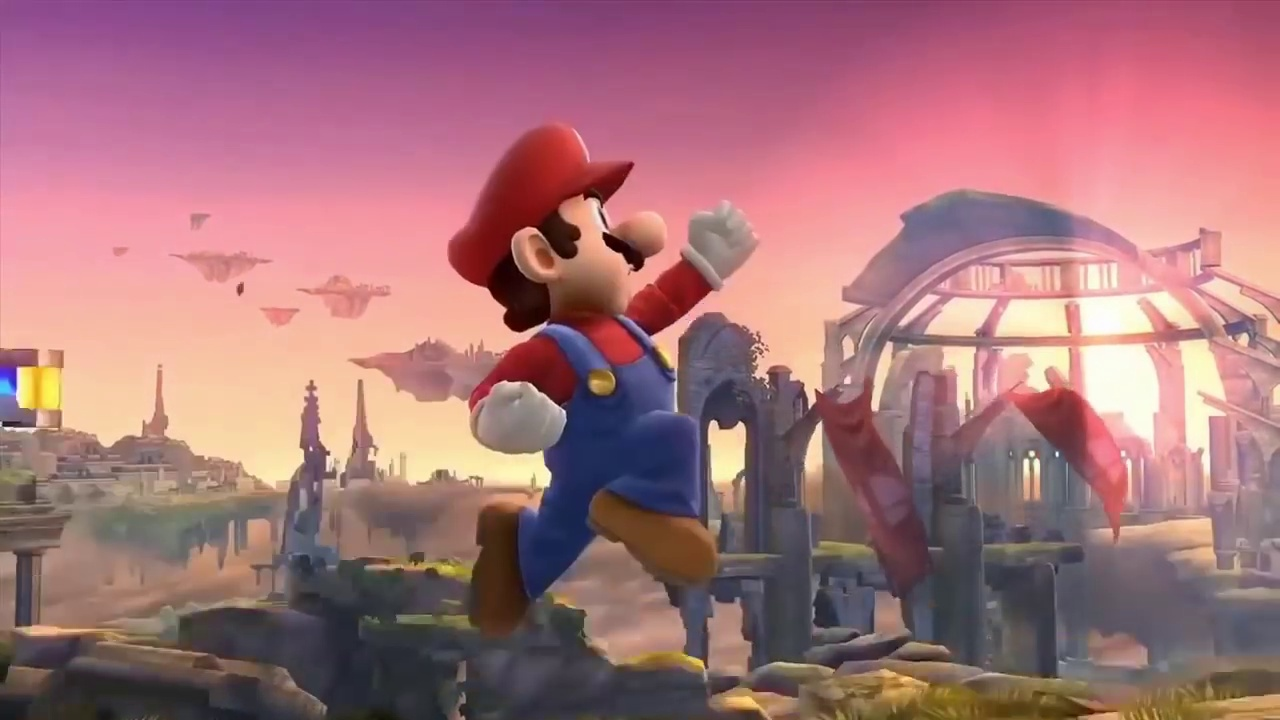Mario: (449, 121, 763, 630)
